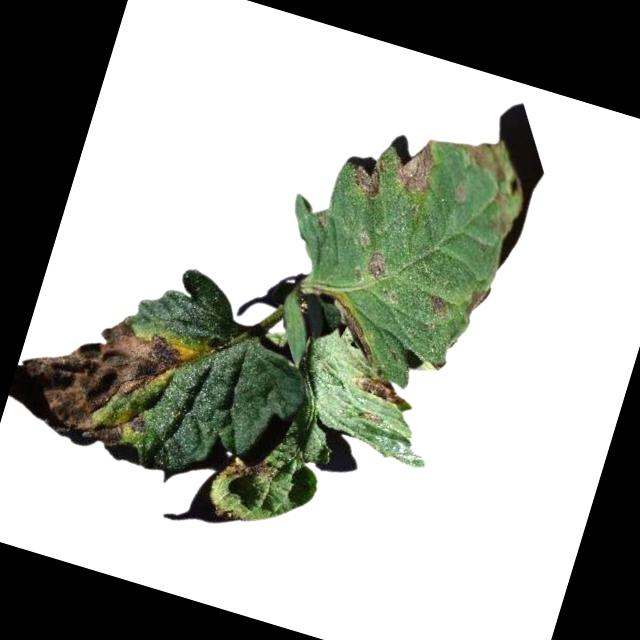Early_blight: (4, 295, 200, 461), (388, 130, 445, 199), (323, 301, 386, 363), (217, 450, 278, 493), (350, 371, 412, 410), (345, 151, 387, 200), (465, 284, 491, 321), (363, 249, 392, 280), (426, 295, 450, 317)
